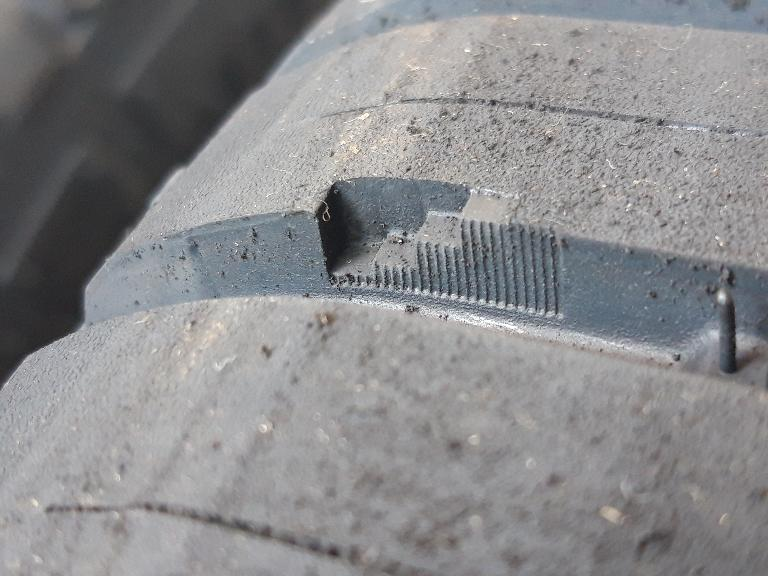temoin:75: (310, 166, 529, 326)
